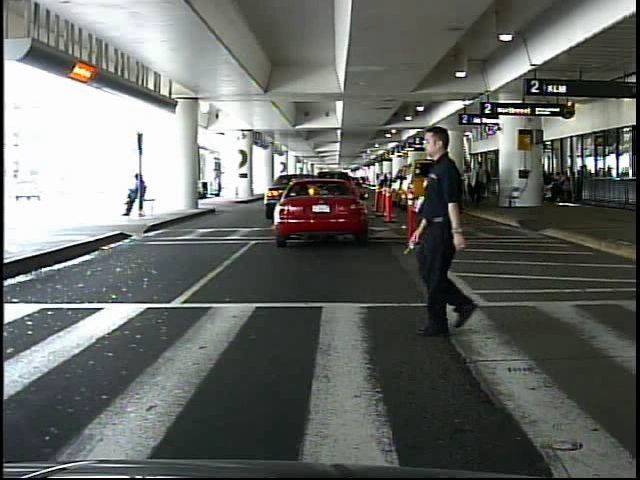person: (405, 114, 492, 336)
